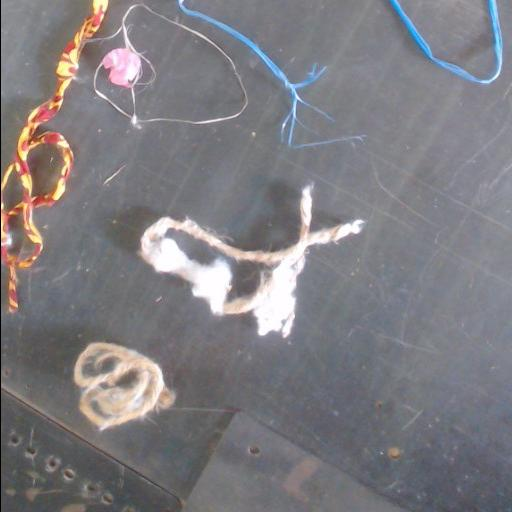cloth: (1, 0, 107, 310)
conveyor belt: (1, 0, 512, 511), (1, 0, 88, 163), (130, 10, 244, 121), (129, 10, 242, 119)
jute: (139, 183, 363, 337), (73, 342, 174, 430), (399, 0, 494, 77)
thread: (177, 0, 361, 147), (88, 3, 247, 128), (388, 0, 502, 83)
